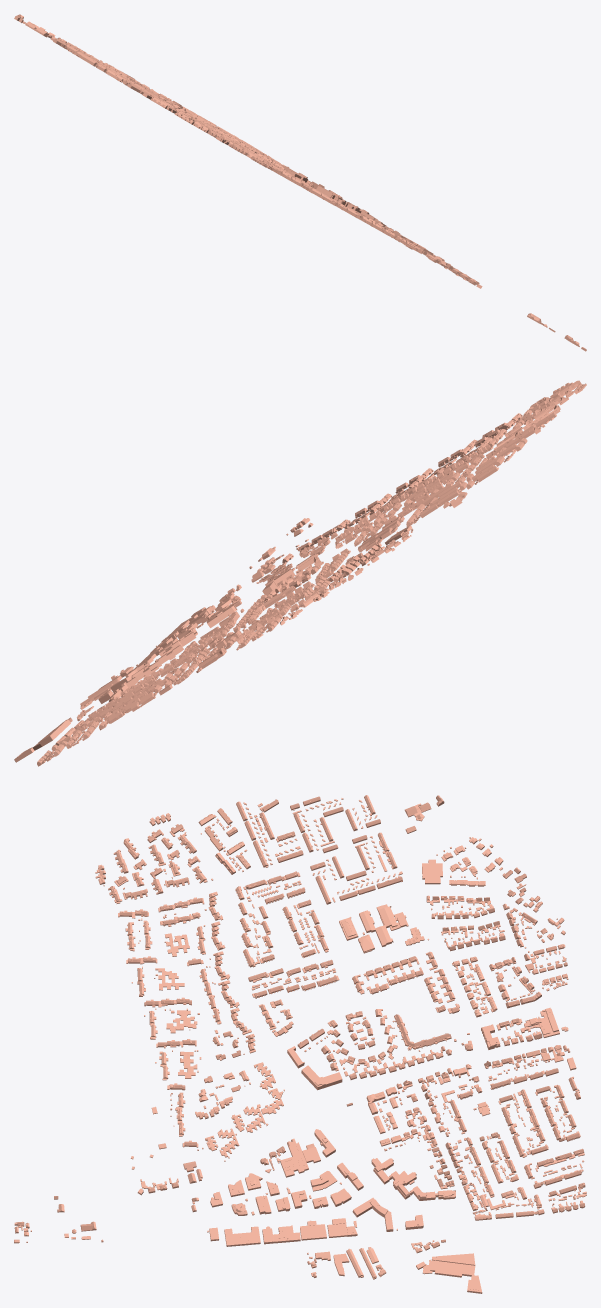
3 renders of one model, top to bottom at view 1: azimuth 30°, elevation 25°; view 2: azimuth 150°, elevation 25°; view 3: azimuth 270°, elevation 25°, orthographic. The views are drawn at different scales.
Bounding box in the file's own units: 907 × 717 × 1177.
